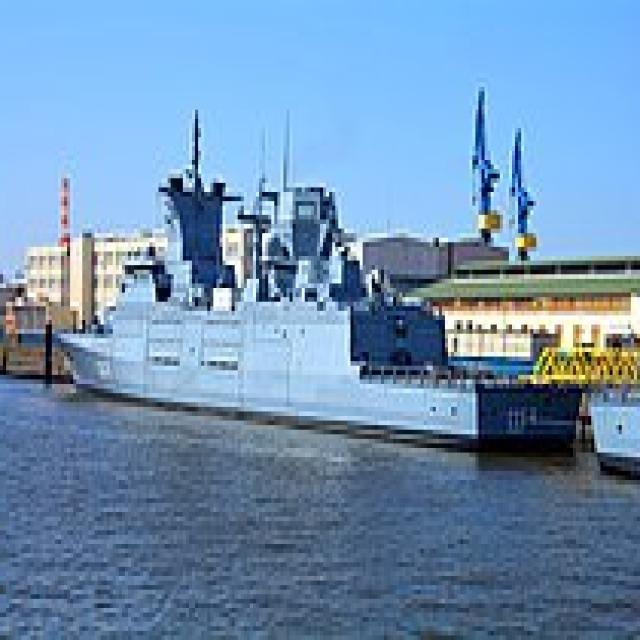Warship: (58, 100, 588, 452)
